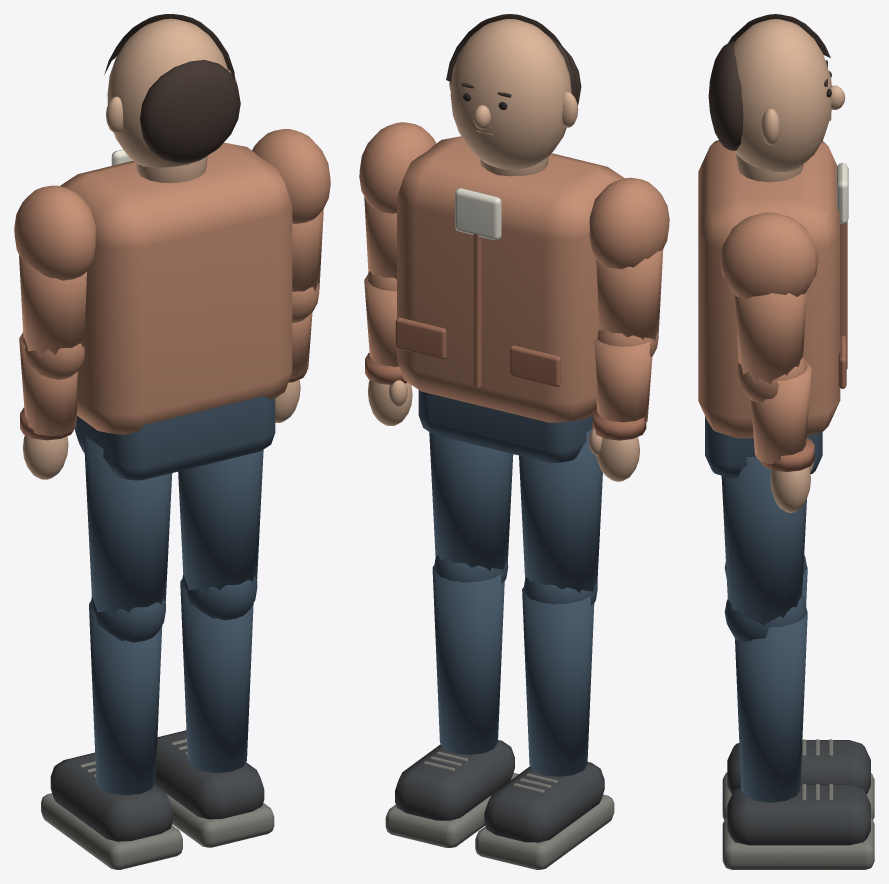
Rendered from passenger.glb.
3 renders of one model, left to right at view 1: azimuth 30°, elevation 25°; view 2: azimuth 150°, elevation 25°; view 3: azimuth 270°, elevation 25°, orthographic. The views are drawn at different scales.
Parts seen in each view (by area): view 1: Jacket torso, Trouser upper L, Trouser lower R, Trouser lower L, Trouser upper R, Hip, Back hair, Head, Shoulder L, Shoe L, Shoe R, Sleeve upper L (+14 smaller); view 2: Jacket torso, Head, Trouser lower R, Trouser lower L, Trouser upper L, Trouser upper R, Hip, Shoe L, Shoe R, Shoulder L, Sleeve upper L, Sleeve lower L (+17 smaller); view 3: Jacket torso, Head, Trouser lower R, Trouser upper R, Shoe R, Shoulder R, Sleeve upper R, Sole R, Sleeve lower R, Shoe L, Back hair, Hip (+11 smaller).
Part boxes in pixels (bbox=[...]): Jacket torso: bbox=[60, 142, 292, 434]; Trouser upper L: bbox=[84, 435, 172, 617]; Trouser lower R: bbox=[180, 579, 253, 772]; Trouser lower L: bbox=[89, 601, 162, 795]; Trouser upper R: bbox=[178, 449, 263, 594]; Hip: bbox=[75, 396, 275, 480]; Back hair: bbox=[139, 60, 240, 163]; Head: bbox=[107, 18, 228, 167]; Shoulder L: bbox=[14, 185, 95, 280]; Shoe L: bbox=[50, 752, 172, 841]; Shoe R: bbox=[155, 730, 264, 819]; Sleeve upper L: bbox=[19, 255, 86, 357]; Jacket torso: bbox=[397, 136, 624, 422]; Head: bbox=[450, 19, 571, 169]; Trouser lower R: bbox=[432, 565, 504, 754]; Trouser lower L: bbox=[522, 587, 594, 776]; Trouser upper L: bbox=[519, 428, 602, 593]; Trouser upper R: bbox=[429, 432, 513, 571]; Hip: bbox=[418, 390, 592, 462]; Shoe L: bbox=[484, 762, 604, 842]; Shoe R: bbox=[395, 740, 514, 820]; Shoulder L: bbox=[589, 177, 669, 269]; Sleeve upper L: bbox=[596, 249, 663, 341]; Sleeve lower L: bbox=[594, 339, 652, 422]; Jacket torso: bbox=[698, 140, 840, 438]; Head: bbox=[734, 19, 831, 172]; Trouser lower R: bbox=[735, 611, 807, 802]; Trouser upper R: bbox=[721, 457, 806, 625]; Shoe R: bbox=[727, 784, 870, 845]; Shoulder R: bbox=[720, 212, 818, 298]; Sleeve upper R: bbox=[735, 292, 806, 383]; Sole R: bbox=[722, 817, 874, 869]; Sleeve lower R: bbox=[751, 360, 811, 464]; Shoe L: bbox=[727, 740, 870, 793]; Back hair: bbox=[708, 42, 743, 150]; Hip: bbox=[705, 416, 822, 477].
Bounding box in the file's own units: 0.648 × 1.68 × 0.3295.
